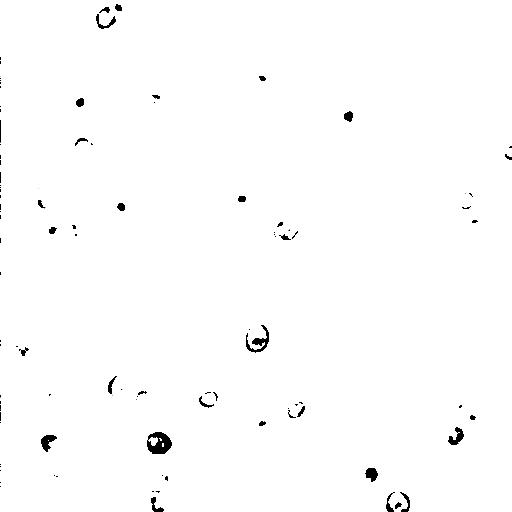micro-algae: (4, 61, 104, 153), (88, 425, 178, 512), (338, 69, 413, 149), (455, 84, 511, 153), (0, 46, 36, 146), (1, 139, 40, 205), (109, 368, 160, 418), (2, 383, 50, 430), (42, 478, 106, 511), (61, 334, 106, 380), (325, 95, 372, 136), (132, 309, 174, 354), (250, 0, 302, 32), (57, 0, 122, 23), (243, 60, 280, 96), (230, 474, 266, 511), (2, 113, 24, 171), (270, 214, 308, 247), (28, 184, 64, 218), (149, 354, 184, 388), (40, 213, 72, 245), (243, 320, 270, 354), (67, 135, 97, 164), (106, 372, 136, 401), (108, 191, 136, 222), (429, 304, 461, 330), (145, 430, 174, 458), (68, 89, 96, 117), (462, 217, 490, 245), (141, 489, 175, 512), (440, 275, 468, 302), (10, 339, 35, 368), (456, 403, 485, 426), (385, 490, 412, 511), (94, 6, 117, 30), (453, 187, 476, 211), (251, 412, 274, 436), (37, 473, 63, 494), (442, 424, 465, 447), (257, 298, 279, 321), (134, 389, 156, 412), (268, 90, 289, 114), (39, 434, 64, 454), (66, 224, 87, 245), (197, 390, 220, 409), (286, 399, 306, 420), (361, 465, 380, 486), (500, 94, 512, 127), (0, 206, 13, 235), (153, 470, 172, 488), (230, 0, 252, 14), (158, 0, 185, 10), (234, 193, 250, 206), (438, 66, 450, 83), (194, 0, 215, 8), (392, 0, 415, 7), (504, 145, 511, 162)
